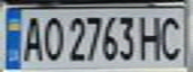2: (63, 12, 87, 62)
3: (115, 12, 139, 62)
6: (100, 12, 121, 62)
7: (81, 12, 103, 62)
A: (18, 12, 45, 63)
C: (157, 11, 190, 62)
H: (136, 11, 166, 62)
O: (39, 12, 66, 63)
